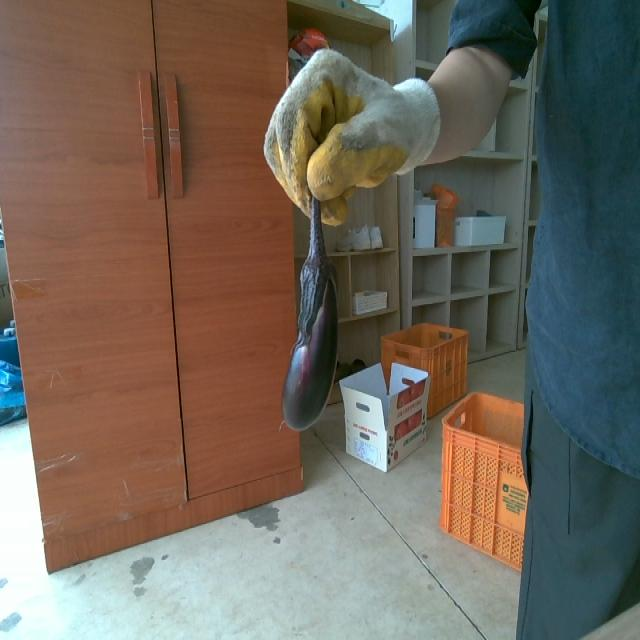Egg plant: (283, 197, 337, 429)
